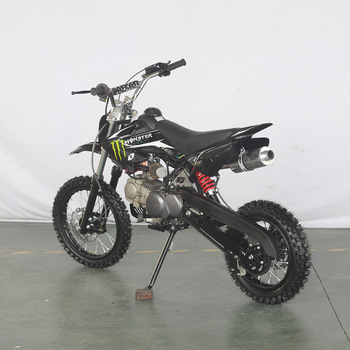Bike: (50, 86, 315, 310)
